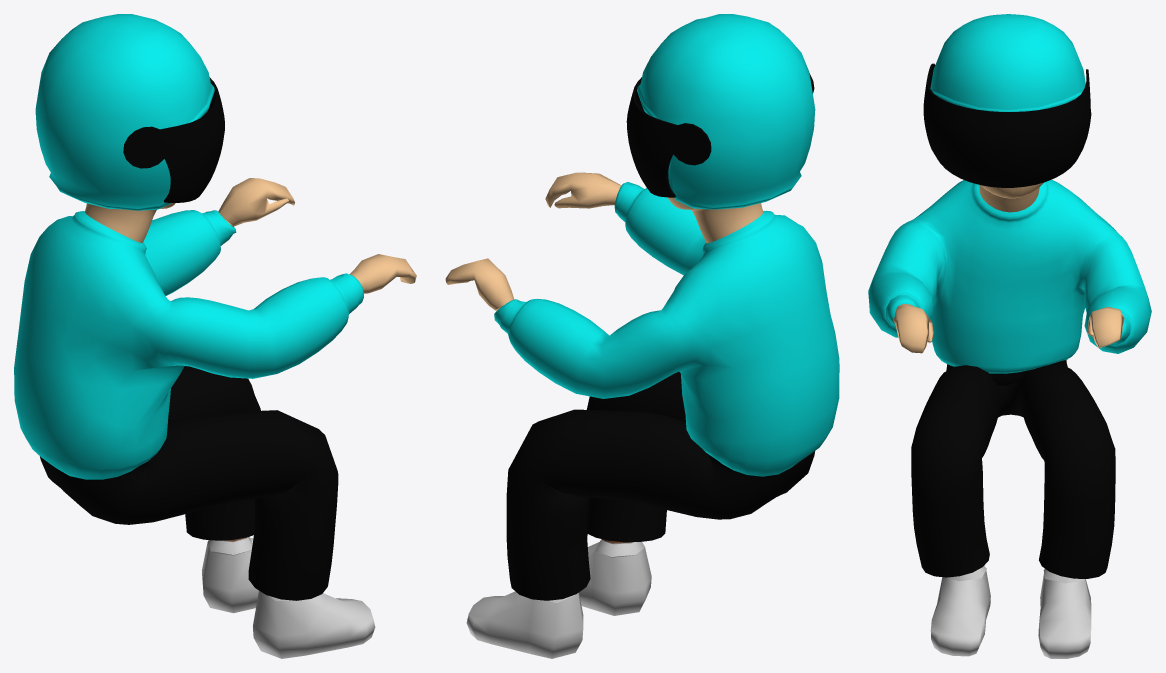
File: Driver.fbx
The picture shows the model from 3 angles, left to right: view 1: azimuth 30°, elevation 25°; view 2: azimuth 150°, elevation 25°; view 3: azimuth 270°, elevation 25°; orthographic projection. The views are drawn at different scales.
Visible parts, largest first — view 1: Rider; view 2: Rider; view 3: Rider.
Boxes of the visible parts, box(x1,y1,x2,y2) form: Rider: box(14, 14, 416, 658); Rider: box(445, 14, 839, 658); Rider: box(868, 14, 1151, 658).
Size of the model in its own units: 111 by 204 by 95.94.
Materials: 3 (1 with a texture image).
